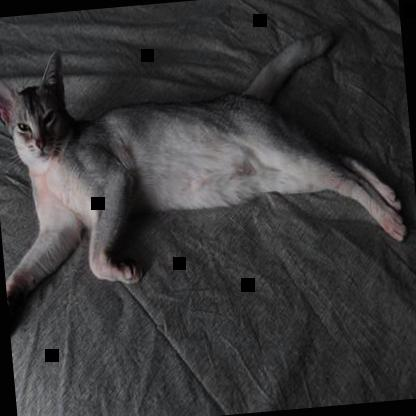cat: (0, 19, 414, 345)
